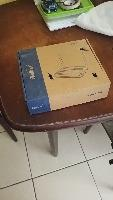damaged package: (42, 67, 57, 84), (86, 68, 100, 79), (77, 46, 88, 52)
undamaged: (14, 37, 111, 117)
